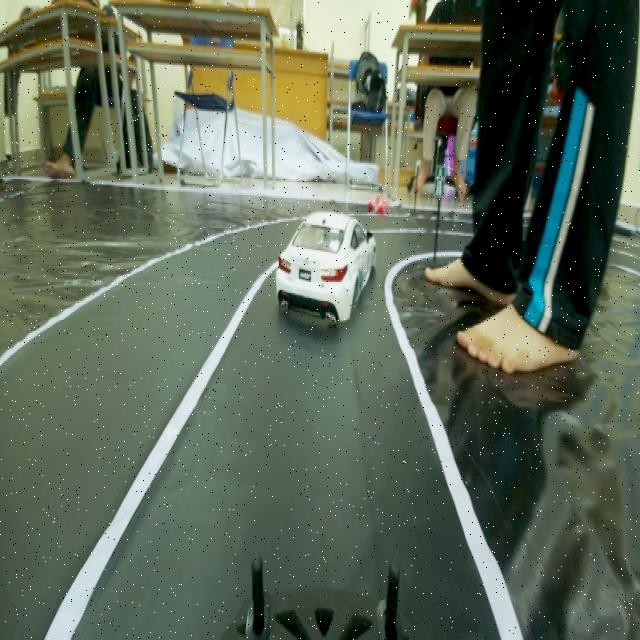car: (278, 198, 384, 345)
highway_entry: (430, 161, 453, 208)
